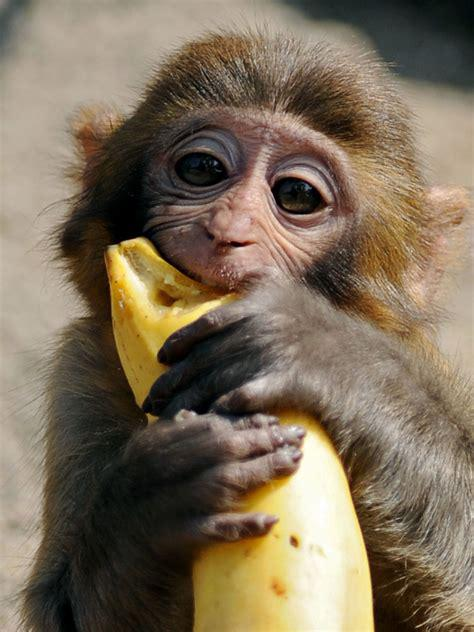monkey: (43, 37, 474, 632)
